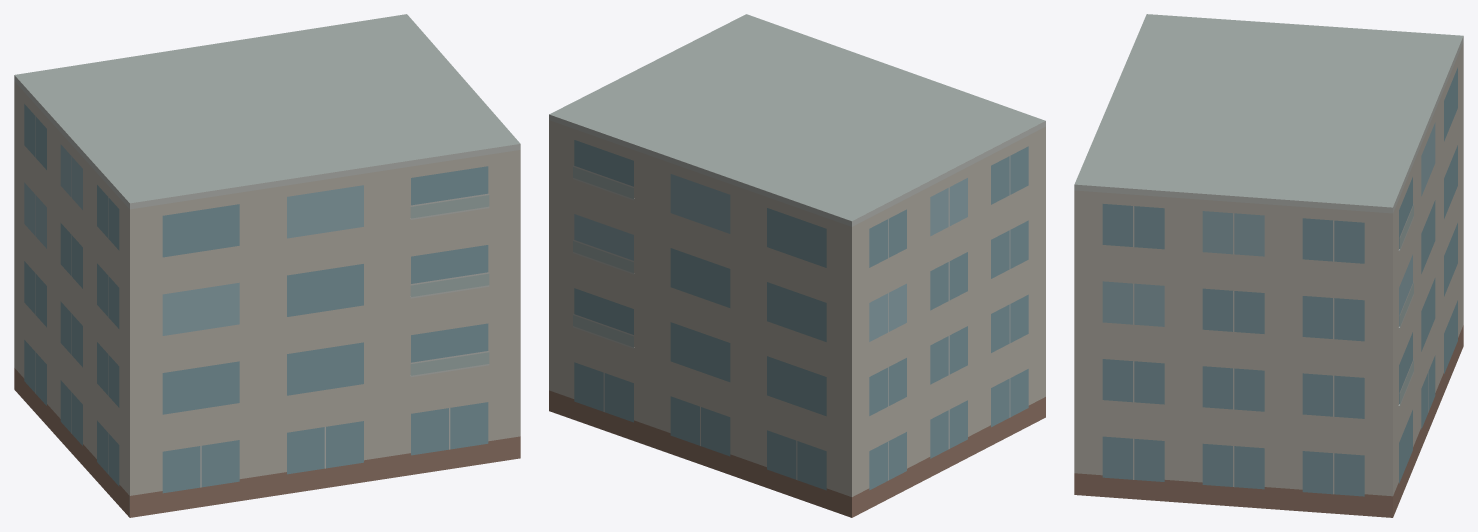
File: survey-upis-32657083.glb
The picture shows the model from 3 angles, left to right: view 1: azimuth 30°, elevation 25°; view 2: azimuth 150°, elevation 25°; view 3: azimuth 270°, elevation 25°; orthographic projection. The views are drawn at different scales.
Parts seen in each view (by area): view 1: survey-upis-32657083.tmp; view 2: survey-upis-32657083.tmp; view 3: survey-upis-32657083.tmp.
Part boxes in pixels (x1,y1,x2,y2): survey-upis-32657083.tmp: (14, 14, 520, 517); survey-upis-32657083.tmp: (549, 14, 1045, 517); survey-upis-32657083.tmp: (1074, 14, 1463, 517).
Size of the model in its own units: 17.13 by 12.8 by 14.56.
